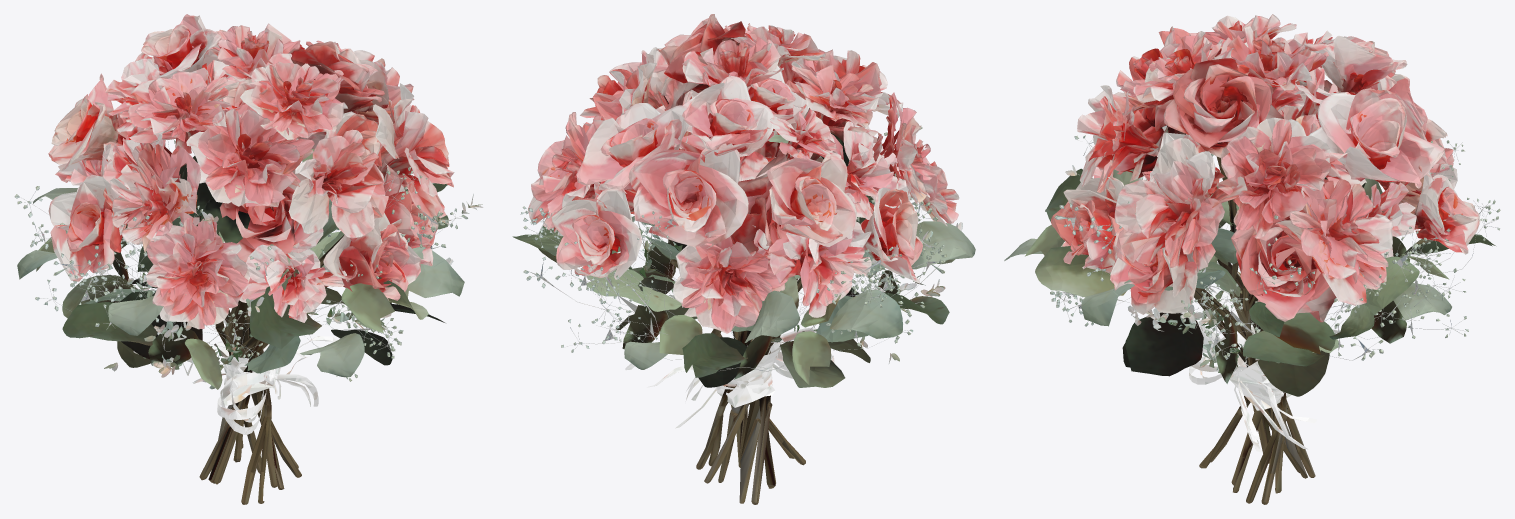
File: flower-3mb.glb
3 renders of one model, left to right at view 1: azimuth 30°, elevation 25°; view 2: azimuth 150°, elevation 25°; view 3: azimuth 270°, elevation 25°, orthographic. The views are drawn at different scales.
Parts seen in each view (by area): view 1: Petal_002_Petals2_0, Leaves_001_Leaves1_0, SmallPlants_001_SmallPlants3_0, Stems_Stems_0, Ribbons_001_Ribbons1_0; view 2: Petal_002_Petals2_0, Leaves_001_Leaves1_0, SmallPlants_001_SmallPlants3_0, Stems_Stems_0, Ribbons_001_Ribbons1_0; view 3: Petal_002_Petals2_0, Leaves_001_Leaves1_0, SmallPlants_001_SmallPlants3_0, Stems_Stems_0, Ribbons_001_Ribbons1_0.
Boxes of the visible parts, left/top/right/bottom form: Petal_002_Petals2_0: left=48, top=14, right=454, bottom=329; Leaves_001_Leaves1_0: left=17, top=149, right=464, bottom=389; SmallPlants_001_SmallPlants3_0: left=14, top=140, right=482, bottom=389; Stems_Stems_0: left=182, top=172, right=344, bottom=504; Ribbons_001_Ribbons1_0: left=215, top=310, right=348, bottom=434; Petal_002_Petals2_0: left=528, top=14, right=959, bottom=333; Leaves_001_Leaves1_0: left=512, top=133, right=975, bottom=387; SmallPlants_001_SmallPlants3_0: left=520, top=125, right=962, bottom=371; Stems_Stems_0: left=670, top=259, right=805, bottom=504; Ribbons_001_Ribbons1_0: left=625, top=327, right=835, bottom=428; Petal_002_Petals2_0: left=1051, top=14, right=1480, bottom=322; Leaves_001_Leaves1_0: left=1004, top=133, right=1495, bottom=396; SmallPlants_001_SmallPlants3_0: left=1050, top=91, right=1500, bottom=373; Stems_Stems_0: left=1194, top=156, right=1315, bottom=504; Ribbons_001_Ribbons1_0: left=1189, top=320, right=1316, bottom=452.
Bounding box in the file's own units: 53.73 × 57.93 × 57.45.
Materials: 20 (20 with a texture image).
